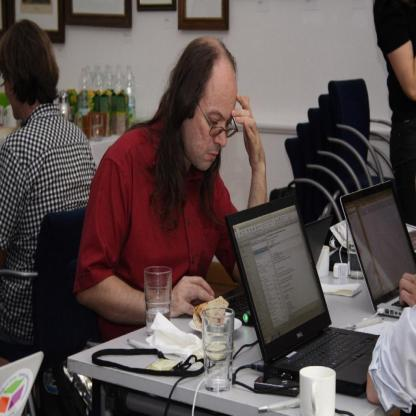board: (224, 193, 378, 405), (340, 181, 416, 320), (0, 349, 45, 416), (124, 65, 136, 127), (78, 66, 92, 112), (116, 89, 129, 134), (100, 88, 112, 136), (115, 64, 126, 92), (104, 63, 115, 91), (93, 63, 104, 91), (113, 89, 116, 136)
